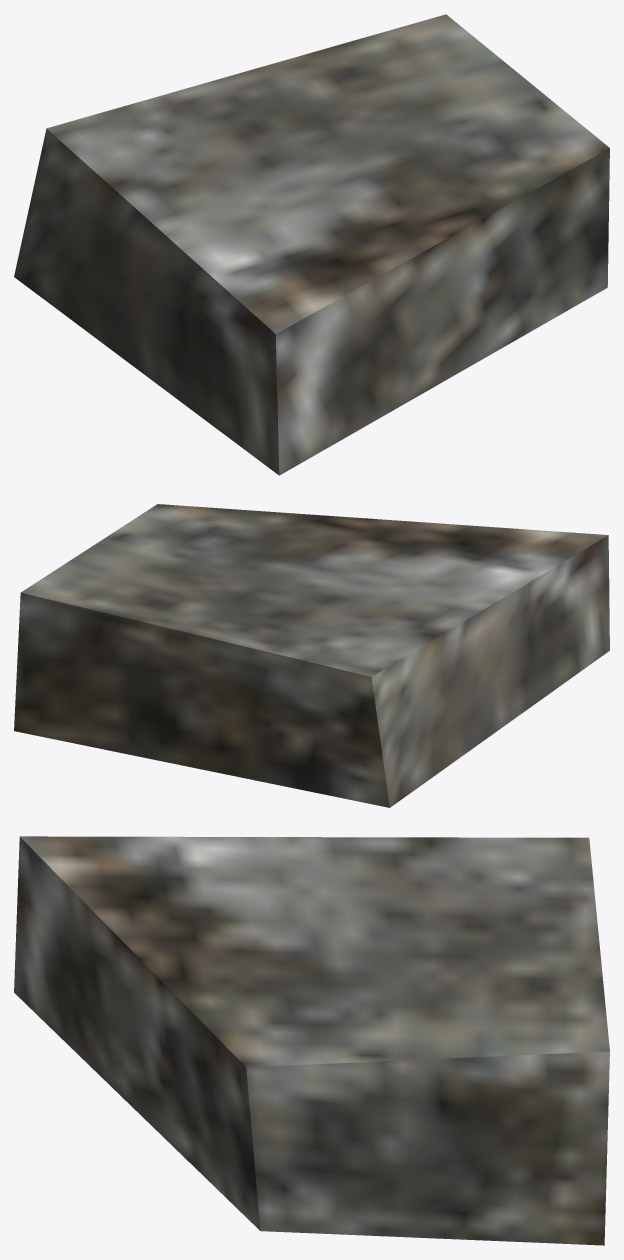
File: Brick2G_LOD1.fbx
3 views of the same model, one above another, from view 1: azimuth 30°, elevation 25°; view 2: azimuth 150°, elevation 25°; view 3: azimuth 270°, elevation 25° (orthographic). The views are drawn at different scales.
Parts seen in each view (by area): view 1: polySurface65; view 2: polySurface65; view 3: polySurface65.
Part boxes in pixels (bbox=[...]): polySurface65: bbox=[14, 14, 609, 475]; polySurface65: bbox=[14, 504, 609, 807]; polySurface65: bbox=[14, 836, 609, 1245].
Bounding box in the file's own units: 0.8249 × 0.2991 × 0.8572.
